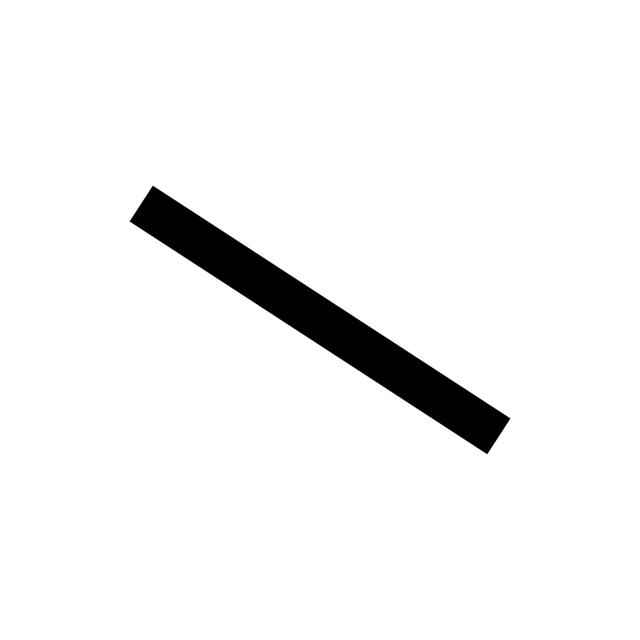line: (129, 186, 510, 454)
